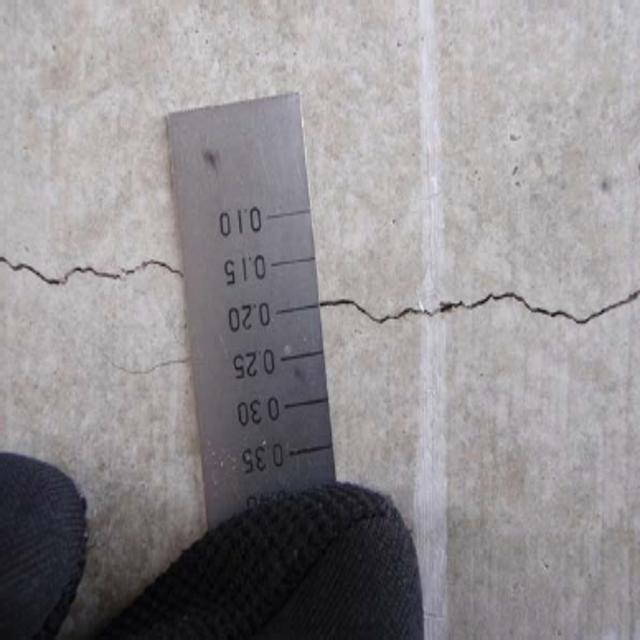crack: (321, 270, 640, 346), (0, 232, 180, 302)
